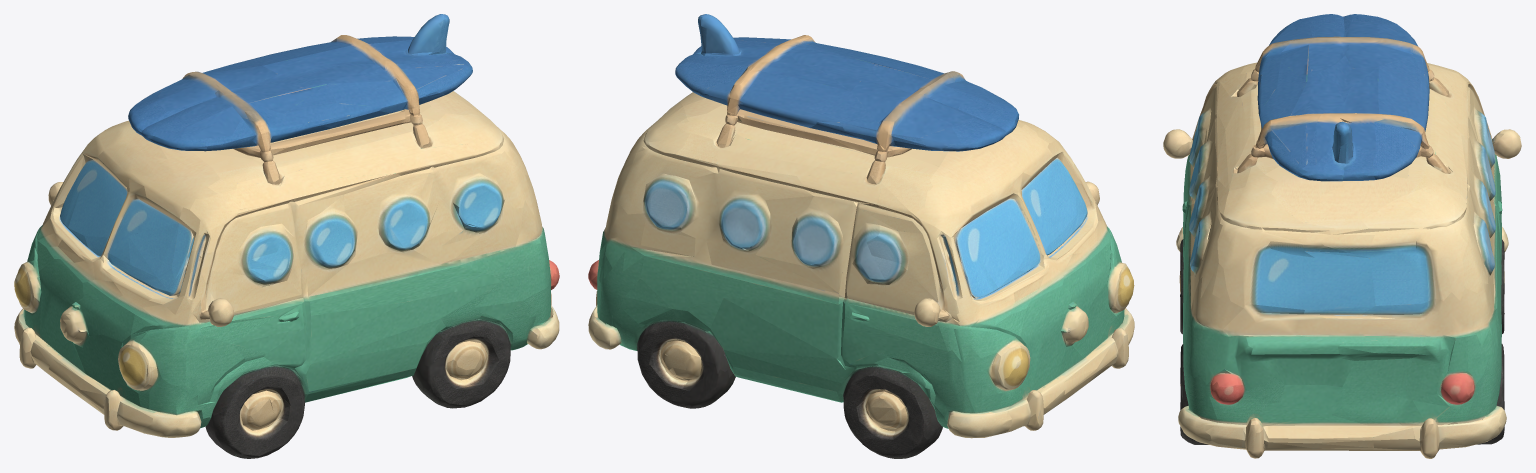
Rendered from model_urls_glb.glb.
3 views of the same model, side by side, from view 1: azimuth 30°, elevation 25°; view 2: azimuth 150°, elevation 25°; view 3: azimuth 270°, elevation 25° (orthographic). The views are drawn at different scales.
Size of the model in its own units: 1.9 by 1.34 by 1.28.
Materials: 1 (1 with a texture image).
